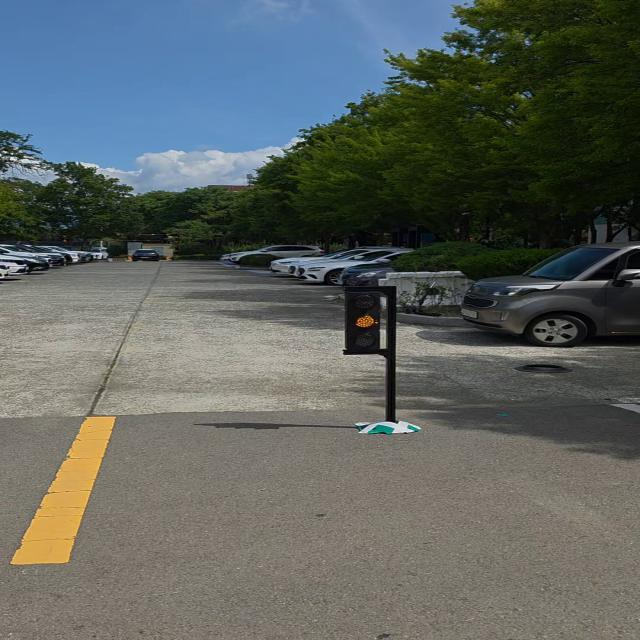yellow: (350, 284, 386, 358)
